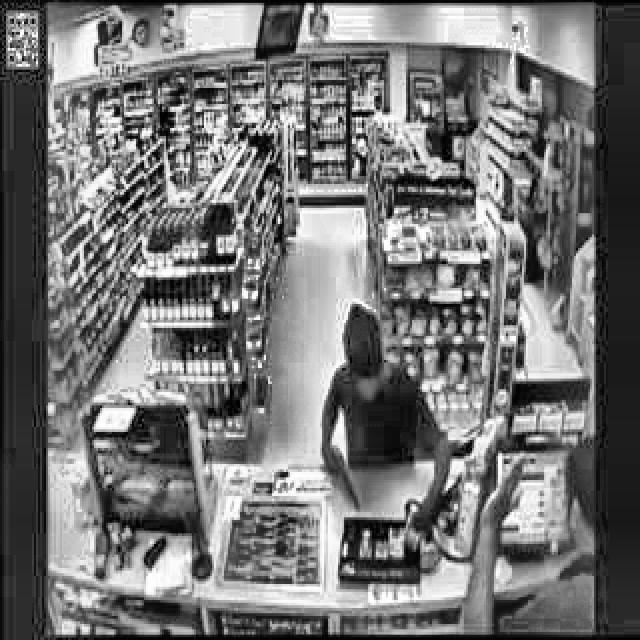robbery: (317, 301, 460, 556), (459, 438, 594, 634)
